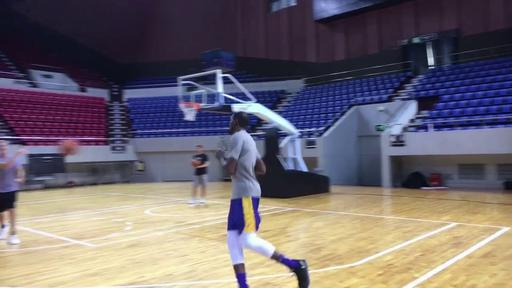ball: (60, 139, 78, 154), (192, 158, 200, 168)
human: (215, 111, 310, 288), (0, 140, 27, 244), (190, 144, 210, 206)
rim: (178, 101, 202, 121)
